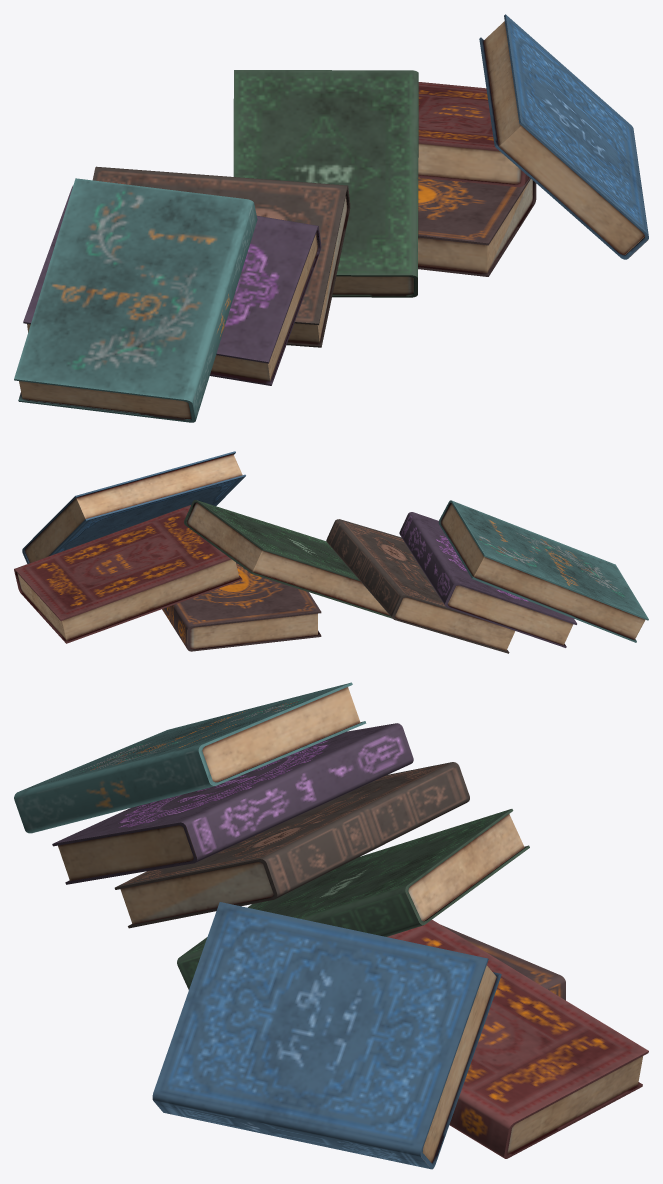
Rendered from sb_obj_indoor048_Books03.fbx.
3 renders of one model, top to bottom at view 1: azimuth 30°, elevation 25°; view 2: azimuth 150°, elevation 25°; view 3: azimuth 270°, elevation 25°, orthographic. The views are drawn at different scales.
Parts seen in each view (by area): view 1: sb_obj_indoor048_Books03; view 2: sb_obj_indoor048_Books03; view 3: sb_obj_indoor048_Books03.
Boxes of the visible parts, x1,y1,x2,y2 form: sb_obj_indoor048_Books03: (14,14,648,422); sb_obj_indoor048_Books03: (14,451,648,653); sb_obj_indoor048_Books03: (14,682,648,1169).
Bounding box in the file's own units: 1.4 × 0.2606 × 0.9004.
